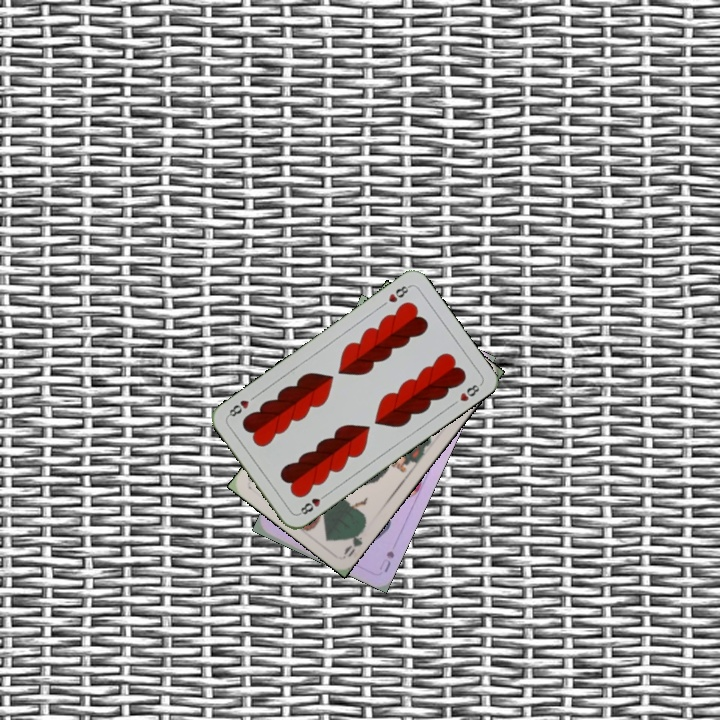GO: (340, 522, 368, 557)
H8: (295, 489, 330, 517), (384, 281, 413, 305)
SU: (375, 546, 397, 575)
